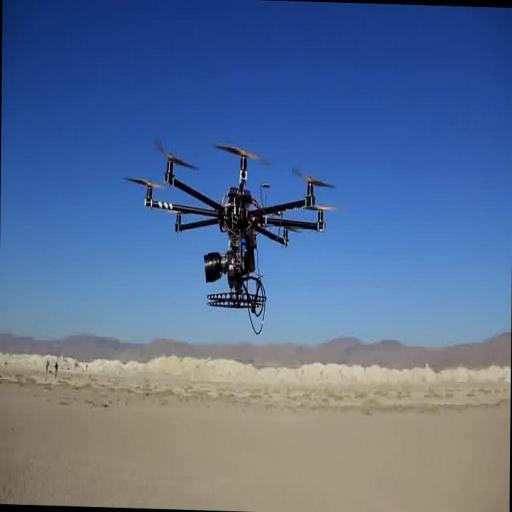drone: (122, 138, 339, 311)
